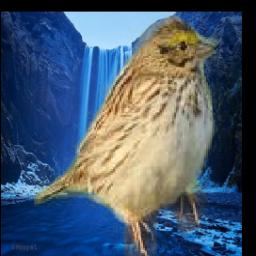Sparrow: (34, 12, 222, 256)
